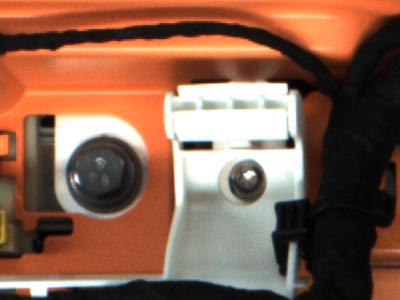nut_b: (67, 138, 147, 214)
